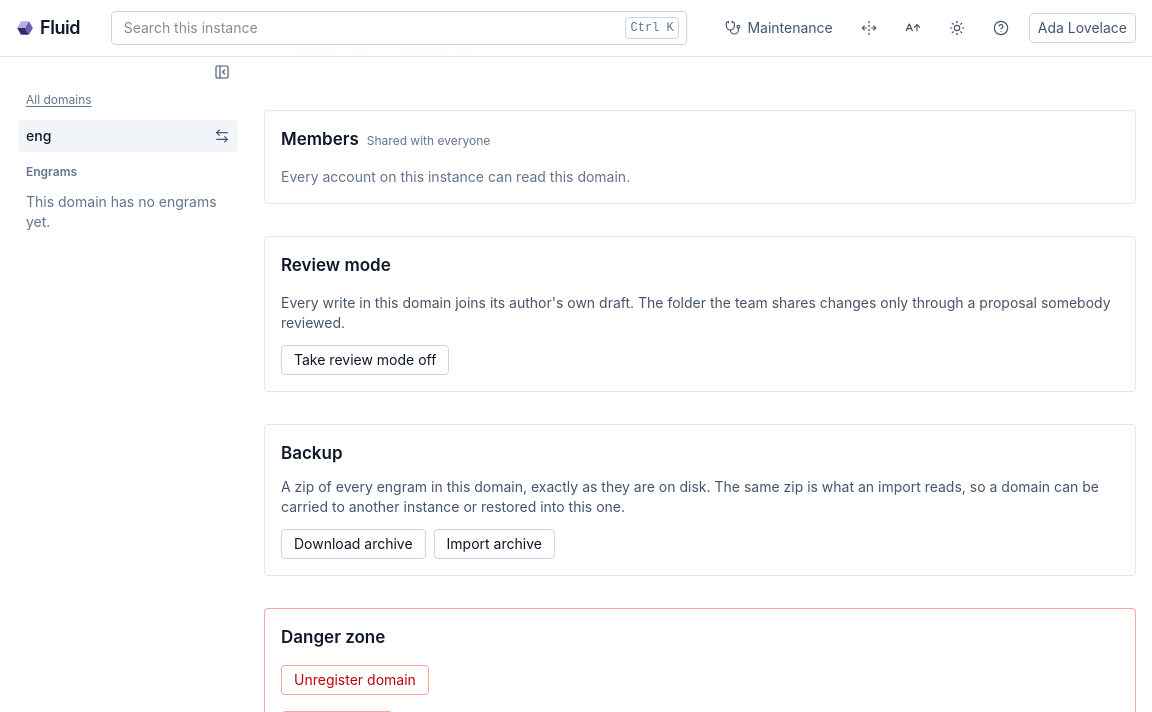
Test case: ReviewModeCard › names both kinds of trouble a fold runs into
(page scrolled)
Click the button "Take review mode off". click: (365, 360)
box: [281,345,449,375]
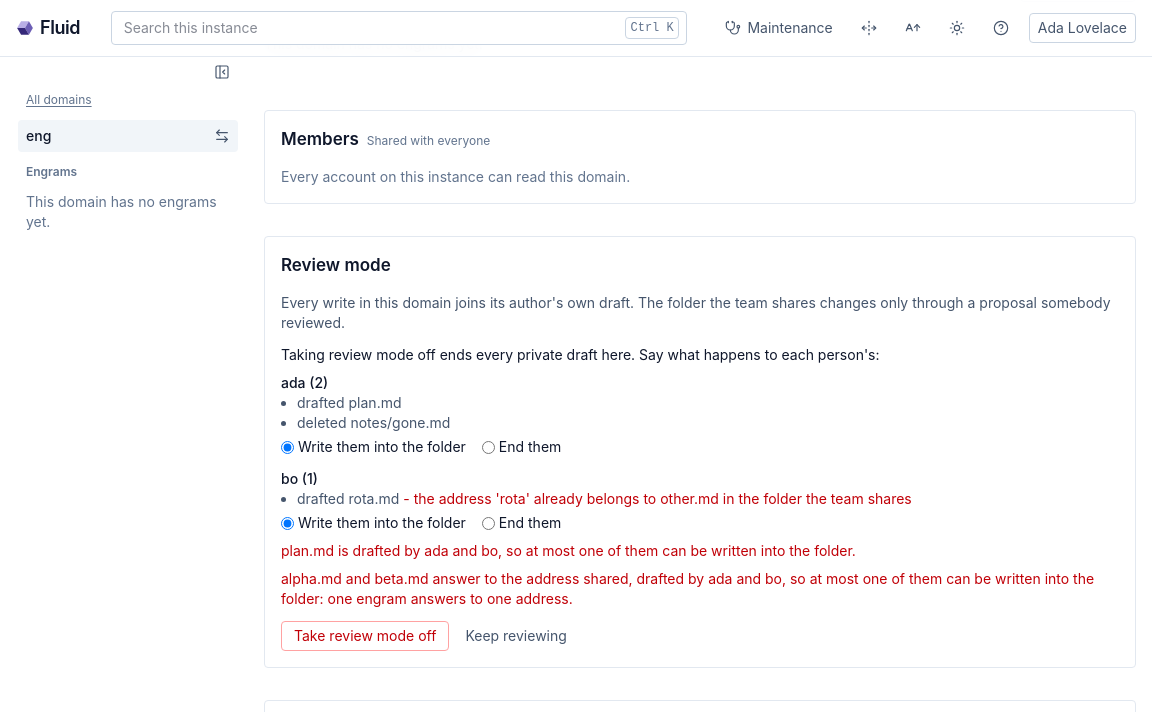
Now the text "ada (2)" is shown, box [281,373,328,393]
Now the text "plan.md is drafted by ada and bo" is shown, box [281,542,856,559]
Now the text "alpha.md and beta.md" is shown, box [281,570,428,587]
